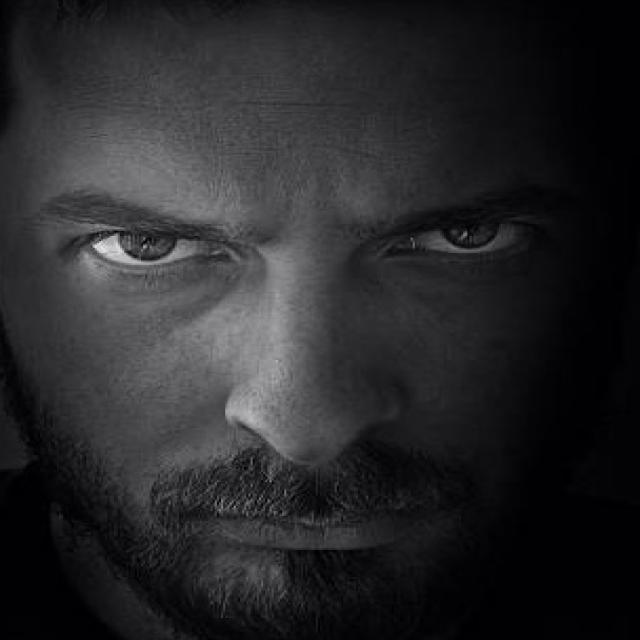Anxiety: (2, 8, 600, 635)
